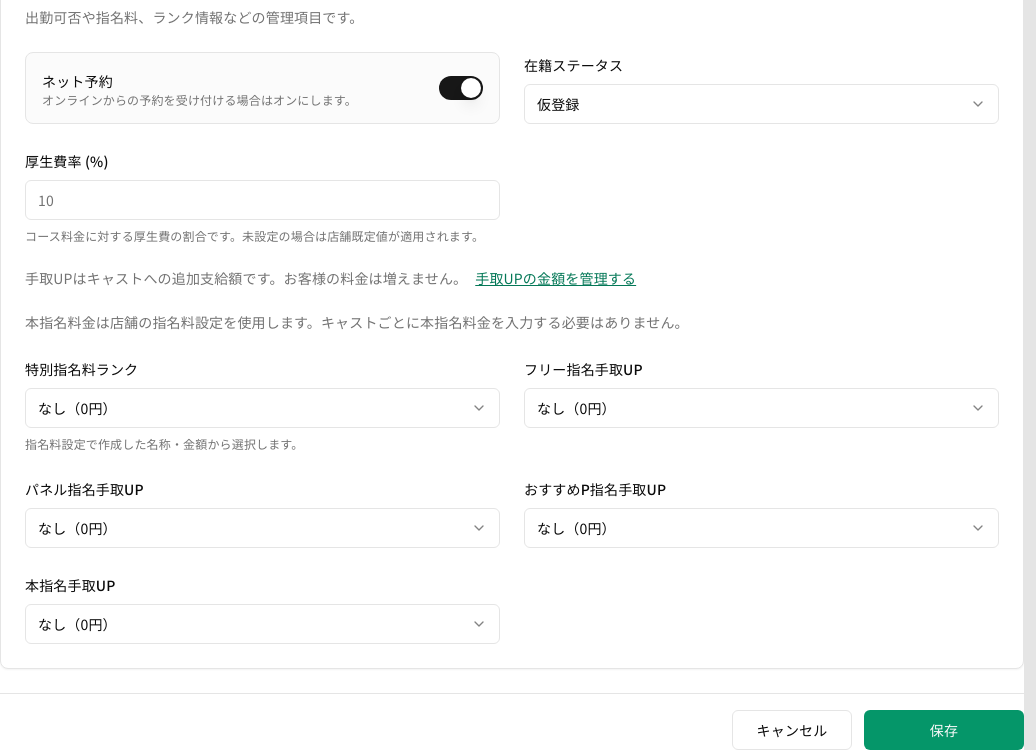
CastForm pricing scope › selects the special designation fee from the store master including zero yen
The image size is (1036, 750).
(page scrolled)
Click the dropdown named "特別指名料ランク". click: click(77, 408)
box: [25,388,500,428]
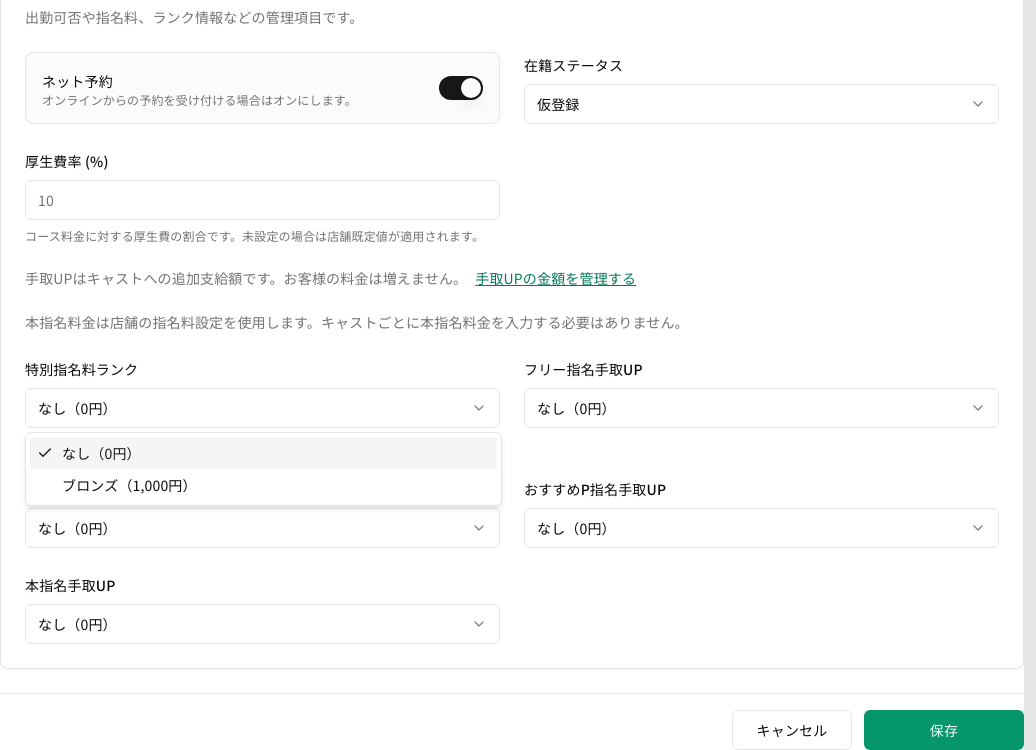
Expected: the option "なし（0円）" is shown, [30,437,497,469]
Expected: the option "ブロンズ（1,000円）" is shown, [62,475,197,495]
